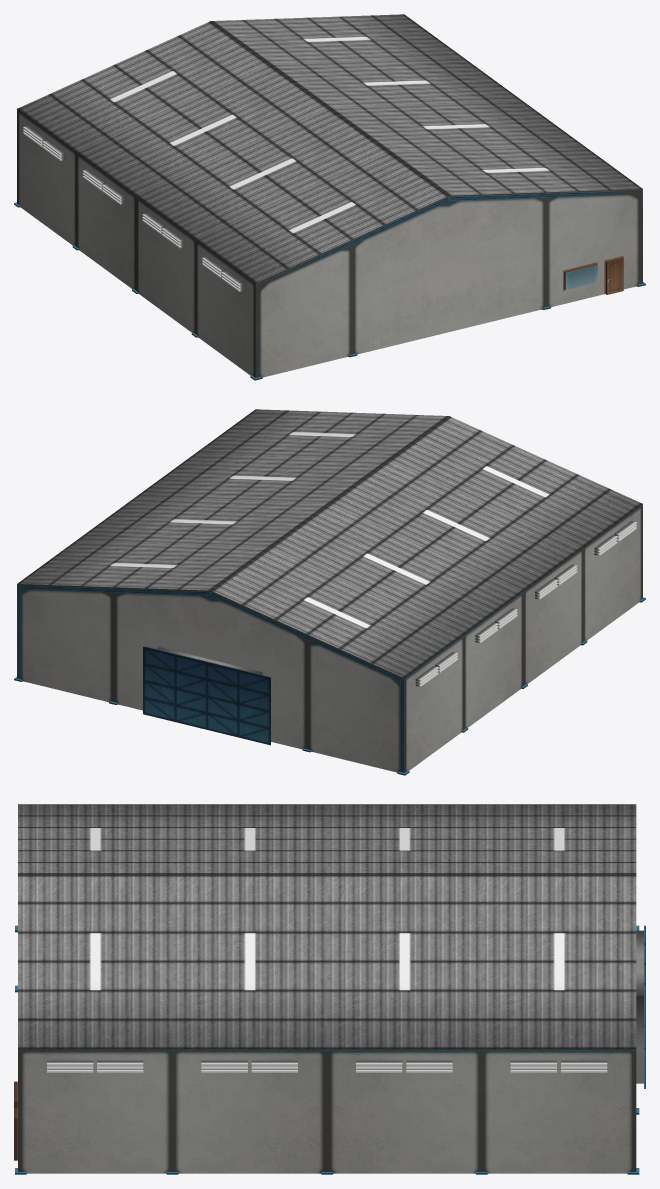
The model's file is Garage_01.fbx.
3 views of the same model, one above another, from view 1: azimuth 30°, elevation 25°; view 2: azimuth 150°, elevation 25°; view 3: azimuth 270°, elevation 25° (orthographic). The views are drawn at different scales.
Visible parts, largest first — view 1: Garage_01; view 2: Garage_01; view 3: Garage_01.
Boxes of the visible parts, box(x1,y1,x2,y2) form: Garage_01: box(14, 14, 645, 380); Garage_01: box(14, 409, 645, 775); Garage_01: box(14, 804, 645, 1174).
Size of the model in its own units: 3080 by 1010 by 3270.
